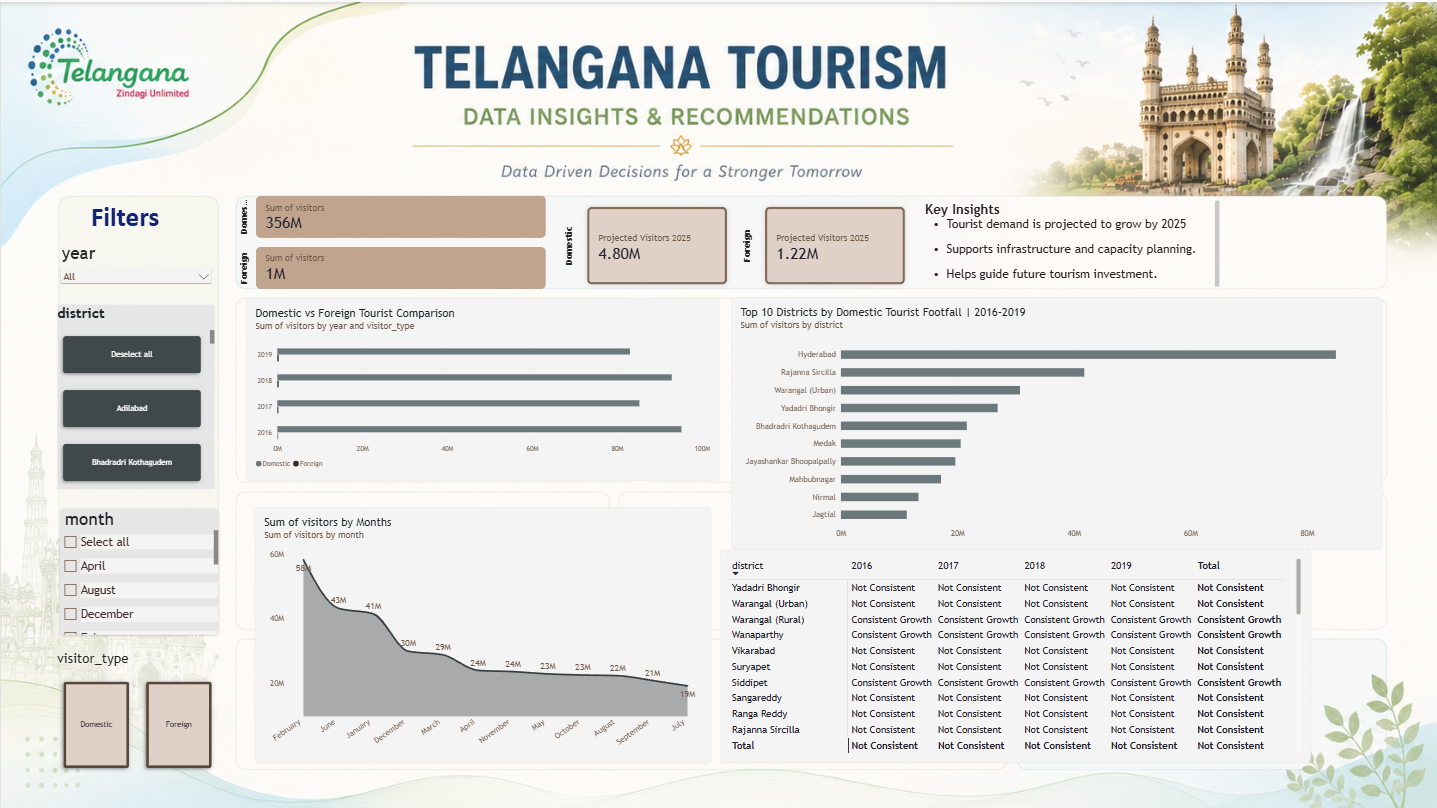

The dashboard page shown, as its layout file describes it:
{"tool":"powerbi","page":{"name":"Page 4","canvas":[2560,1440],"ordinal":1},"visuals":[{"type":"slicer","fields":{"Values":["telengana_visitors.year"]},"box":[100,430,280,150],"z":0},{"type":"slicer","fields":{"Values":["telengana_visitors.month"]},"box":[104.3,901.4,282.9,225.7],"z":2000},{"type":"textbox","box":[160,353.3,193.3,76.7],"z":3000},{"type":"cardVisual","fields":{"Data":["Sum(telengana_visitors.visitors)"],"Rows":["telengana_visitors.visitor_type"]},"box":[422.5,345,547.5,167.5],"z":4000},{"type":"clusteredBarChart","title":"Top 10 Districts by Domestic Tourist Footfall | 2016–2019","fields":{"Category":["telengana_visitors.district"],"Y":["Sum(telengana_visitors.visitors)"]},"box":[1300,526,1160,450],"z":6000},{"type":"cardVisual","fields":{"Data":["telengana_visitors.Projected Visitors 2025"],"Rows":["telengana_visitors.visitor_type"]},"box":[1001.7,353.3,618.3,160],"z":8000},{"type":"textbox","box":[1645,355,525,157.5],"z":9000},{"type":"clusteredBarChart","title":"Domestic vs Foreign Tourist Comparison","fields":{"Category":["telengana_visitors.year"],"Series":["telengana_visitors.visitor_type"],"Y":["Sum(telengana_visitors.visitors)"]},"box":[436.7,526.7,843.3,325],"z":10000},{"type":"advancedSlicerVisual","fields":{"Values":["telengana_visitors.visitor_type"]},"box":[100,1155.7,286.7,220],"z":11000},{"type":"lineChart","title":"Sum of visitors by Months","fields":{"Category":["telengana_visitors.month"],"Y":["Sum(telengana_visitors.visitors)"]},"box":[452.9,898.6,812.9,457.1],"z":11001},{"type":"pivotTable","fields":{"Columns":["telengana_visitors.year"],"Rows":["telengana_visitors.district"],"Values":["telengana_visitors.Growth Status"]},"box":[1280,975,1052.5,380],"z":11002},{"type":"advancedSlicerVisual","fields":{"Values":["telengana_visitors.district"]},"box":[100,538.6,280,328.6],"z":11003}]}

Visuals, with their boxes in screenshot pixels (x1, y1, x2, y2), scaled from the page's 2560x1440 canvas onto the 1437x808 screenshot:
slicer - telengana_visitors.year: 56 241 213 325
slicer - telengana_visitors.month: 59 506 217 632
textbox: 90 198 198 241
cardVisual - Sum(telengana_visitors.visitors) x telengana_visitors.visitor_type: 237 194 544 288
"Top 10 Districts by Domestic Tourist Footfall | 2016–2019" clusteredBarChart: 730 295 1381 548
cardVisual - telengana_visitors.Projected Visitors 2025 x telengana_visitors.visitor_type: 562 198 909 288
textbox: 923 199 1218 288
"Domestic vs Foreign Tourist Comparison" clusteredBarChart: 245 296 718 478
advancedSlicerVisual - telengana_visitors.visitor_type: 56 648 217 772
"Sum of visitors by Months" lineChart: 254 504 711 761
pivotTable - telengana_visitors.year x telengana_visitors.district: 718 547 1309 760
advancedSlicerVisual - telengana_visitors.district: 56 302 213 487
